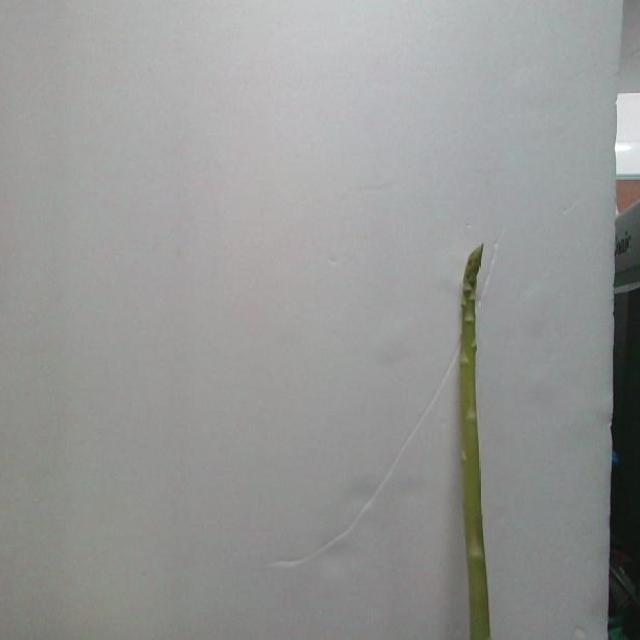aspargus: (459, 249, 495, 640)
